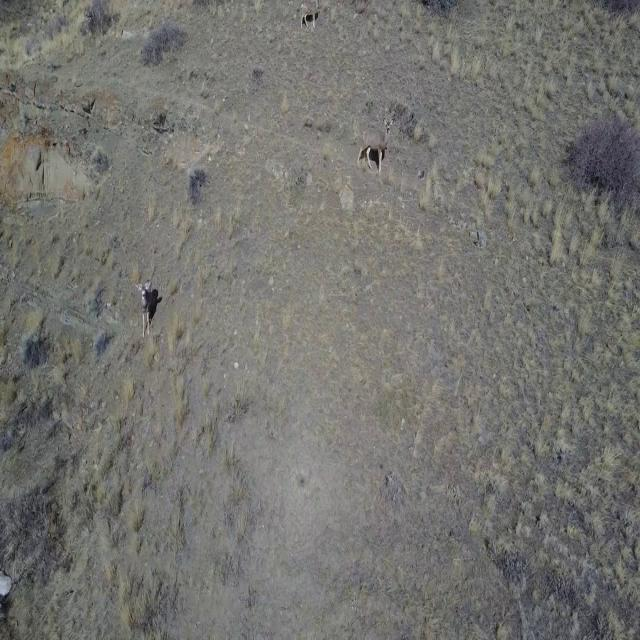Deer: (357, 108, 396, 174), (133, 278, 159, 334), (297, 4, 327, 34)
